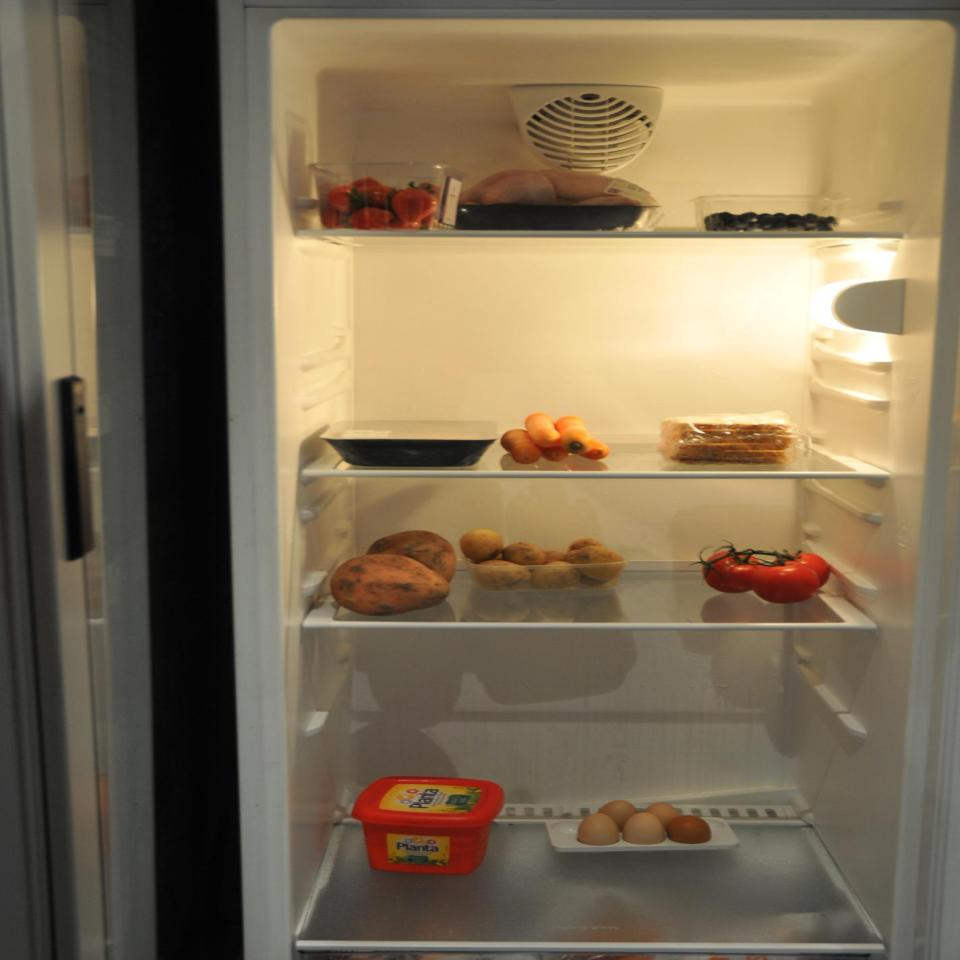Carne pollo: (453, 161, 648, 236)
Huevos: (572, 798, 716, 851)
Mantequilla: (346, 774, 504, 876)
Tomate: (701, 537, 835, 606)
Zanahoria: (496, 410, 612, 464)
